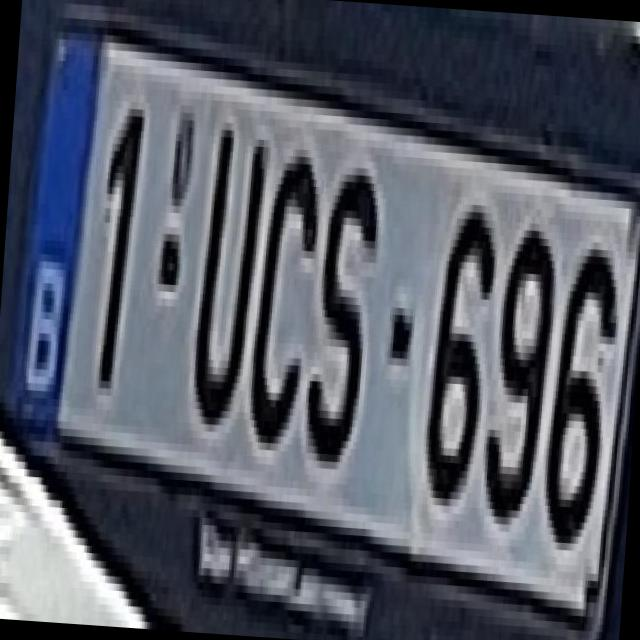1: (78, 70, 154, 382)
6: (528, 217, 628, 546), (407, 179, 507, 502)
9: (468, 205, 570, 528)
C: (235, 124, 332, 446)
S: (300, 151, 380, 463)
U: (181, 92, 274, 427)
